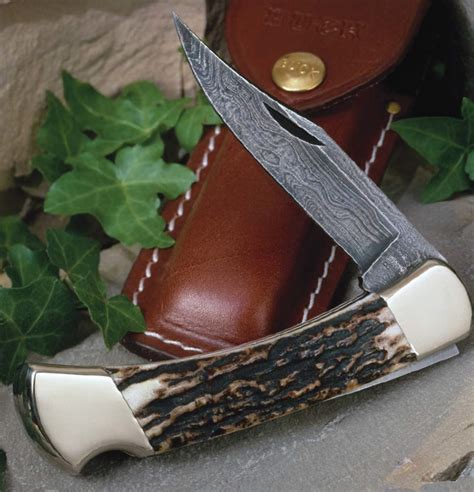knife: (12, 6, 474, 479)
